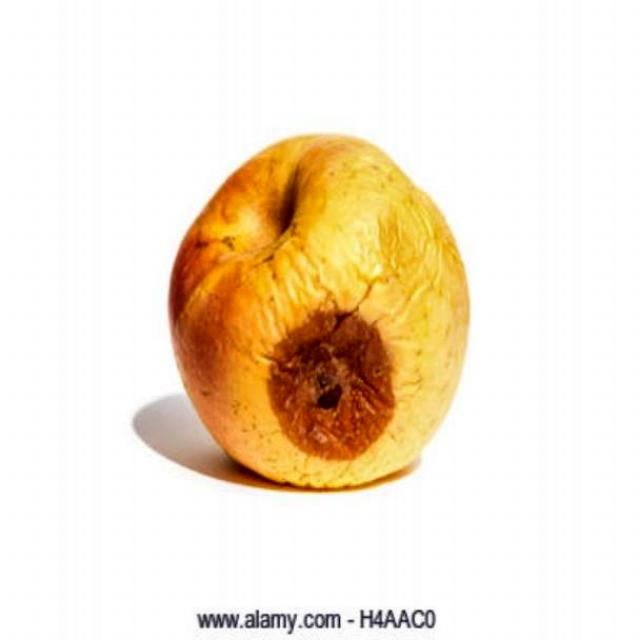ROT: (152, 126, 478, 496)
